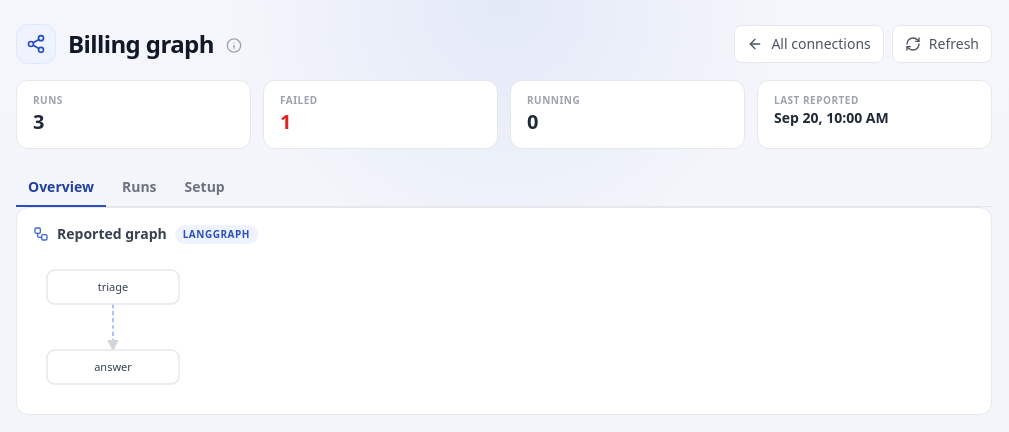
Test case: ConnectionDetail › shows each run with the branch it took
Check: the heading "Billing graph" is shown, box [68,28,214,60]
Click the button "Runs".
click(139, 188)  # box [110,169,169,207]
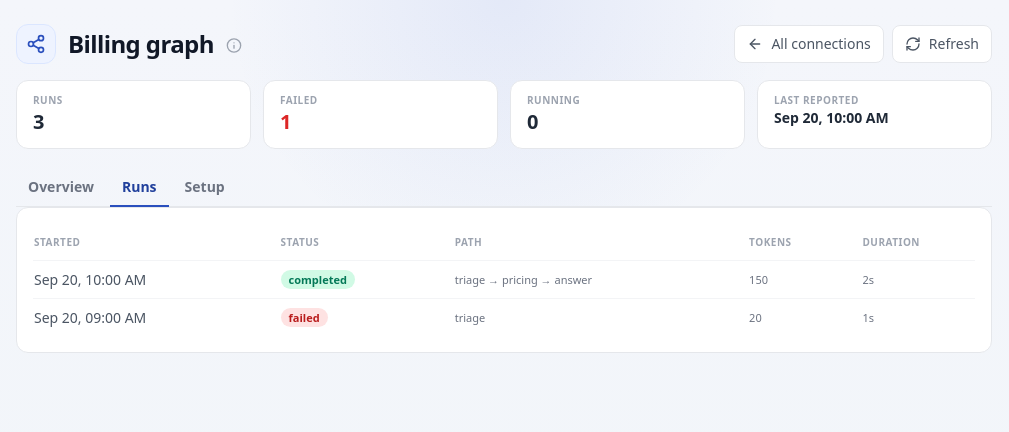
Check: the text "triage → pricing → answer" is shown, box [454,260,748,298]
Check: the text "150" is shown, box [748,260,861,298]
Check: the text "failed" is shown, box [281,308,328,327]
